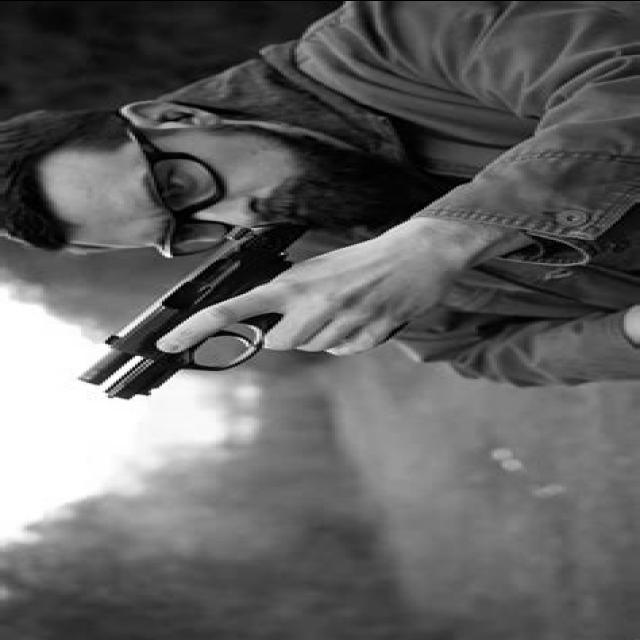weapons: (67, 215, 356, 418)
